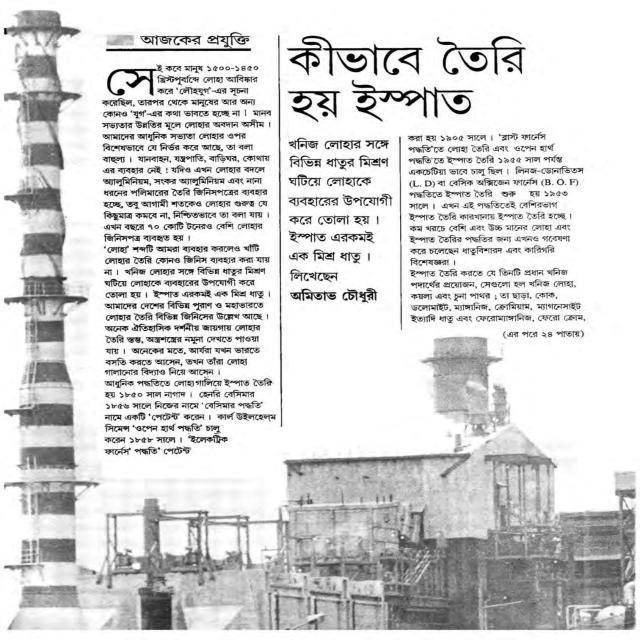image: (0, 6, 640, 635)
paragraph: (98, 63, 273, 243), (405, 131, 585, 267), (102, 243, 273, 377), (286, 136, 394, 283), (103, 377, 277, 456), (407, 267, 587, 325)
text: (288, 287, 380, 304), (501, 329, 586, 340)
title: (283, 32, 529, 127), (139, 31, 252, 48)
